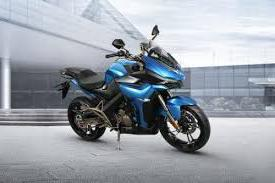motorcycle: (56, 22, 216, 157)
